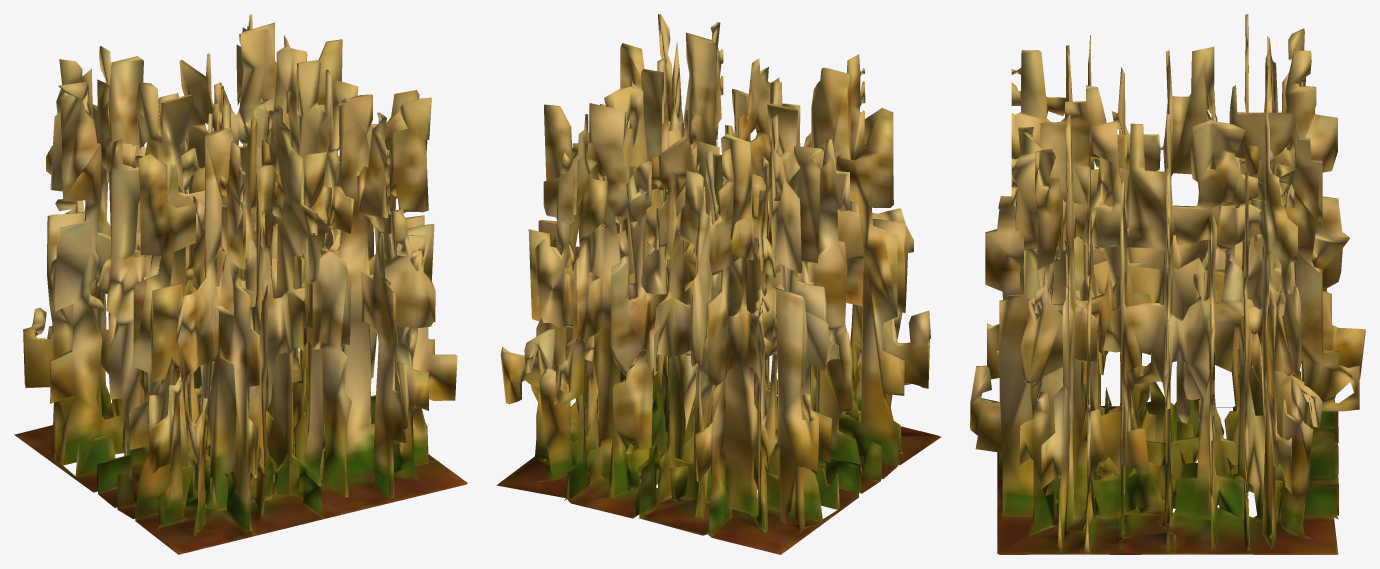
File: crop-wheat.glb
3 renders of one model, left to right at view 1: azimuth 30°, elevation 25°; view 2: azimuth 150°, elevation 25°; view 3: azimuth 270°, elevation 25°, orthographic. The views are drawn at different scales.
Visible parts, largest first — view 1: crop-wheat; view 2: crop-wheat; view 3: crop-wheat.
Boxes of the visible parts, left/top/right/bottom form: crop-wheat: left=14, top=14, right=467, bottom=554; crop-wheat: left=496, top=14, right=941, bottom=554; crop-wheat: left=970, top=14, right=1365, bottom=554.
Size of the model in its own units: 0.8859 by 1 by 0.9057.
Materials: 1 (1 with a texture image).
